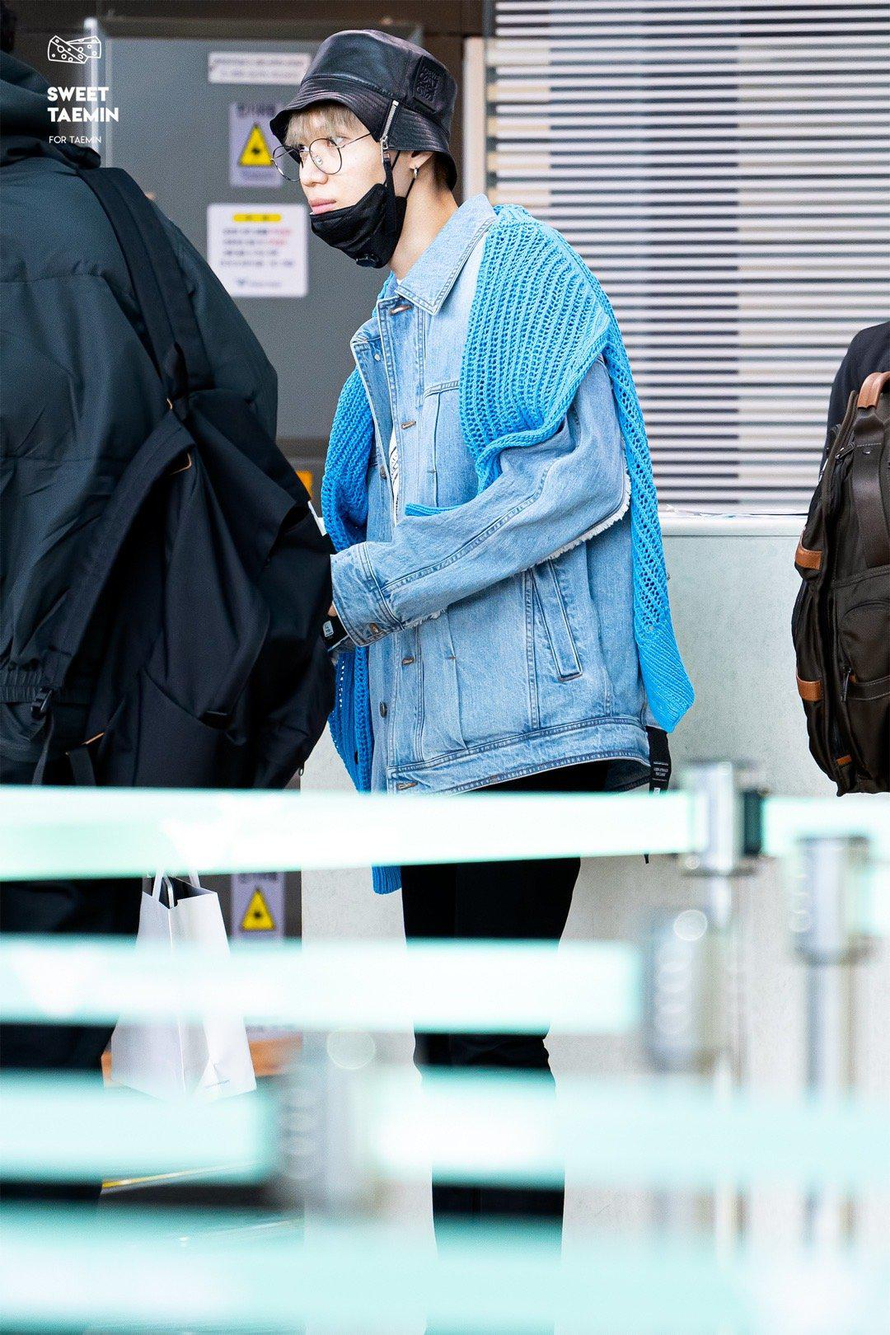WRONG: (294, 106, 371, 245)
